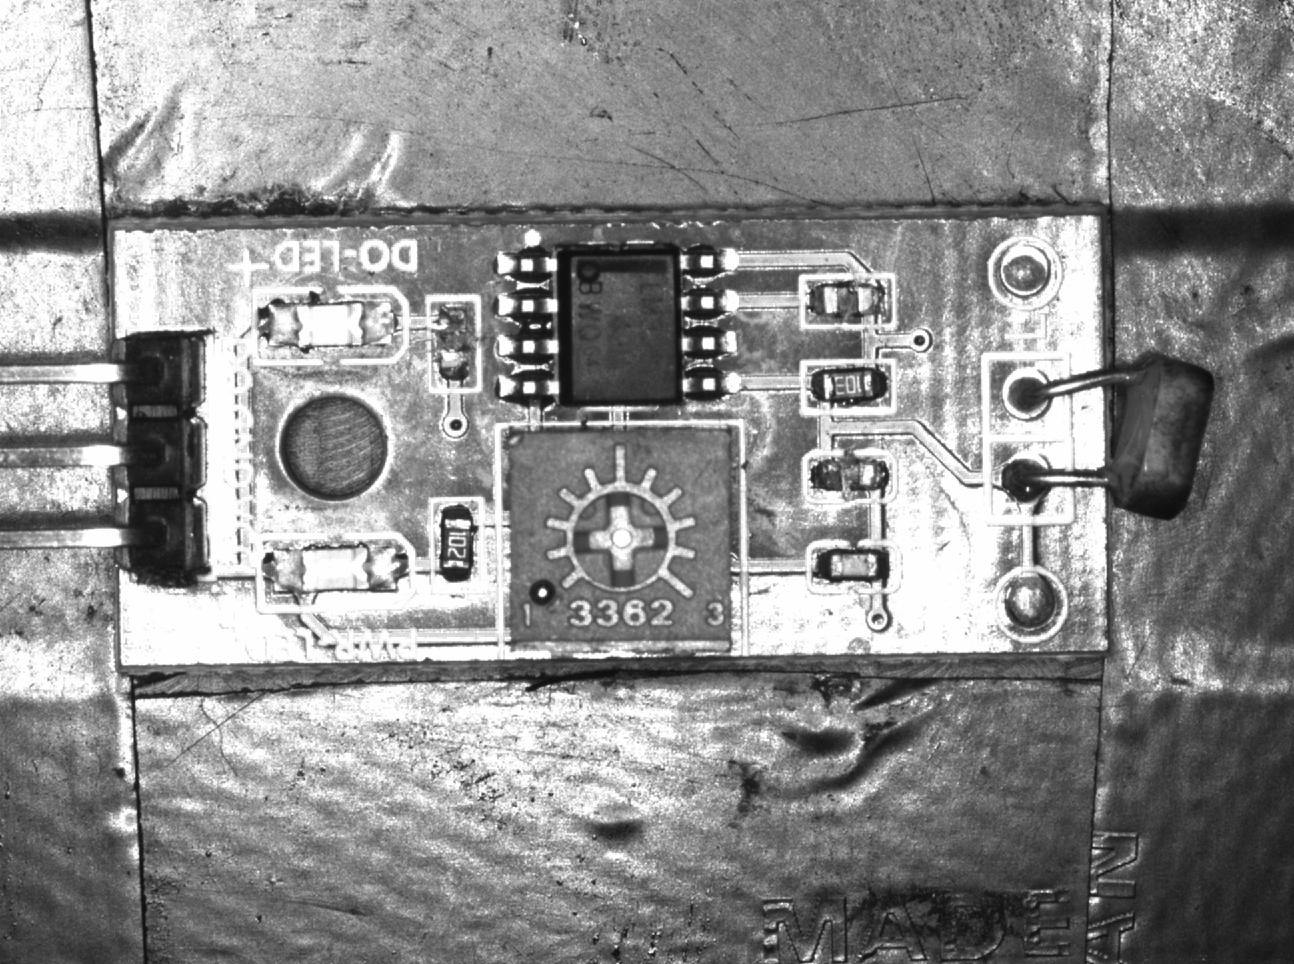miss: (800, 270, 895, 328), (429, 295, 483, 390), (810, 454, 895, 503)
ok: (805, 539, 899, 595), (800, 358, 895, 413), (431, 494, 483, 585)
